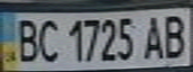1: (63, 16, 84, 62)
2: (100, 15, 121, 62)
5: (115, 14, 142, 62)
7: (78, 16, 100, 62)
A: (139, 12, 169, 61)
B: (157, 11, 193, 60), (9, 15, 42, 64)
C: (33, 16, 63, 63)
